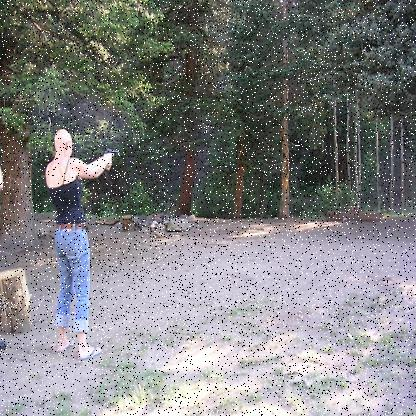pistol: (104, 145, 121, 166)
